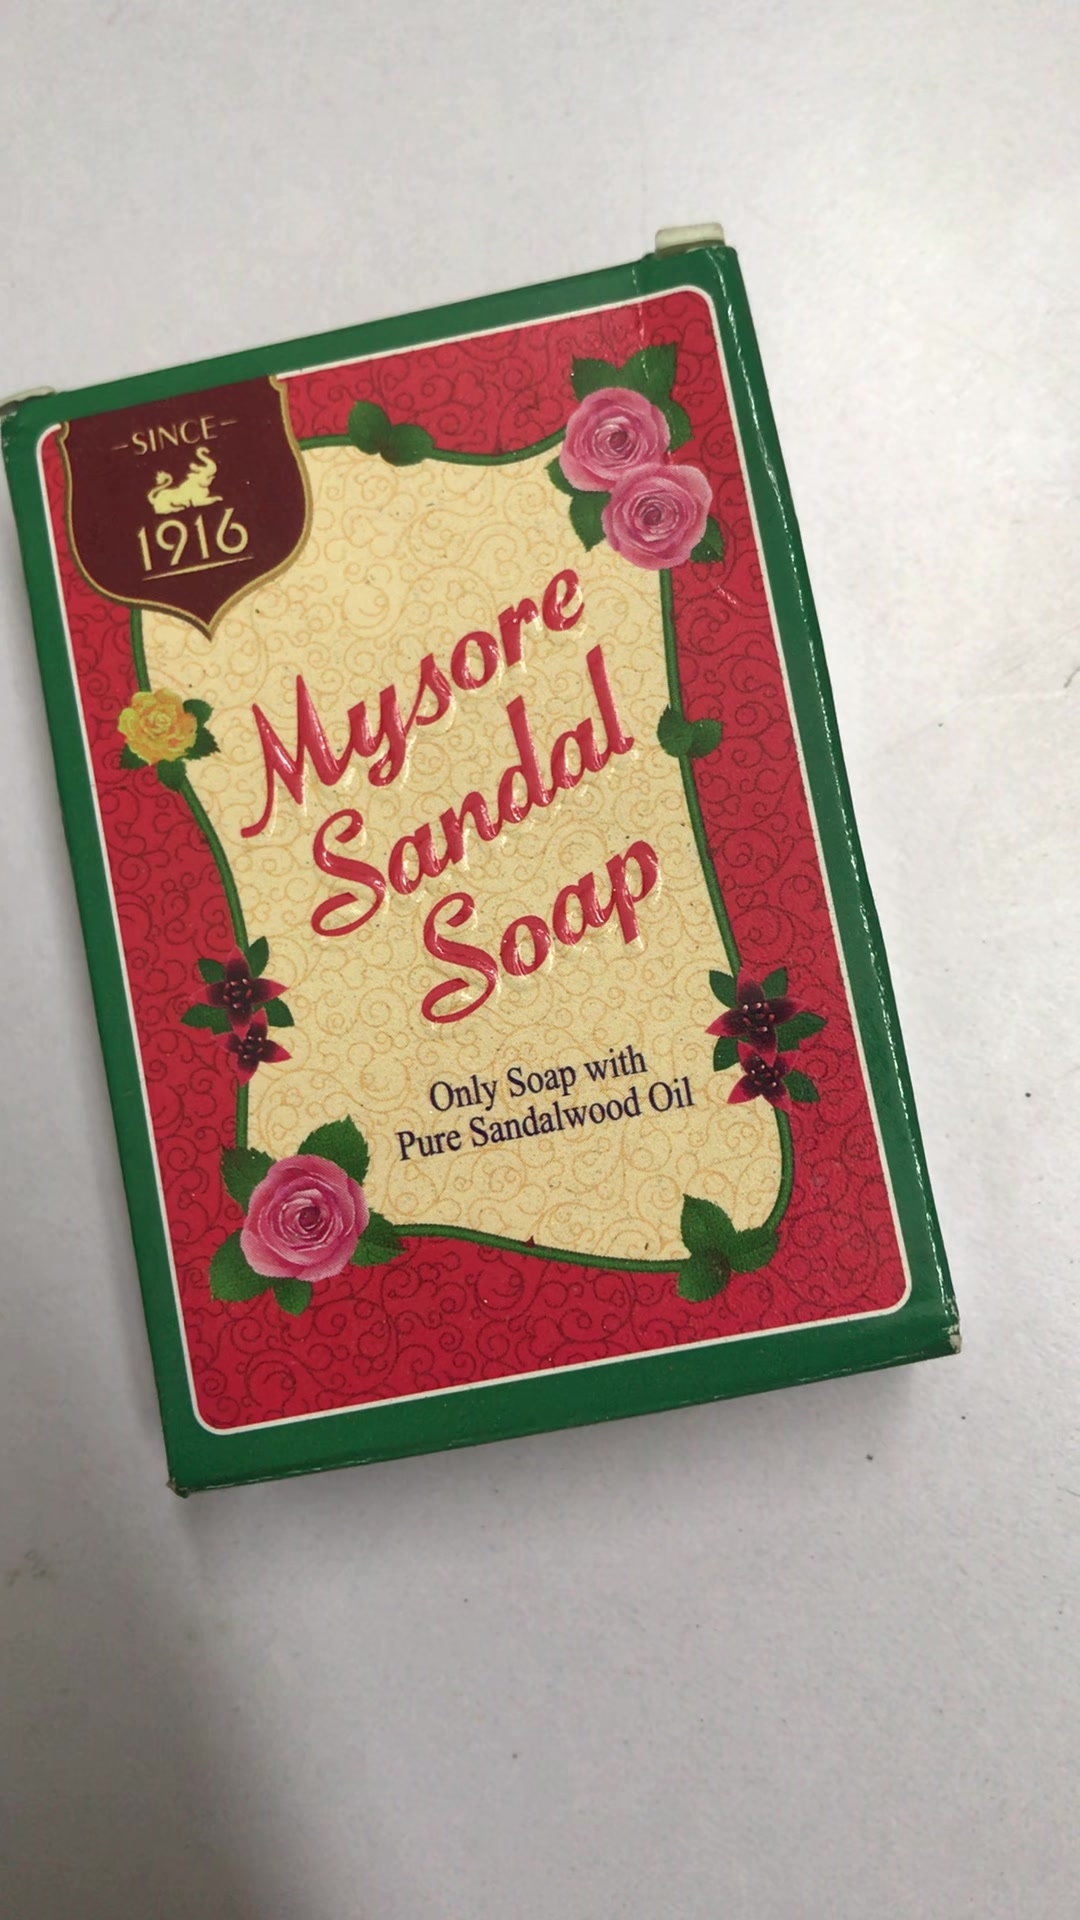mysore sandal soap: (9, 244, 965, 1498)
